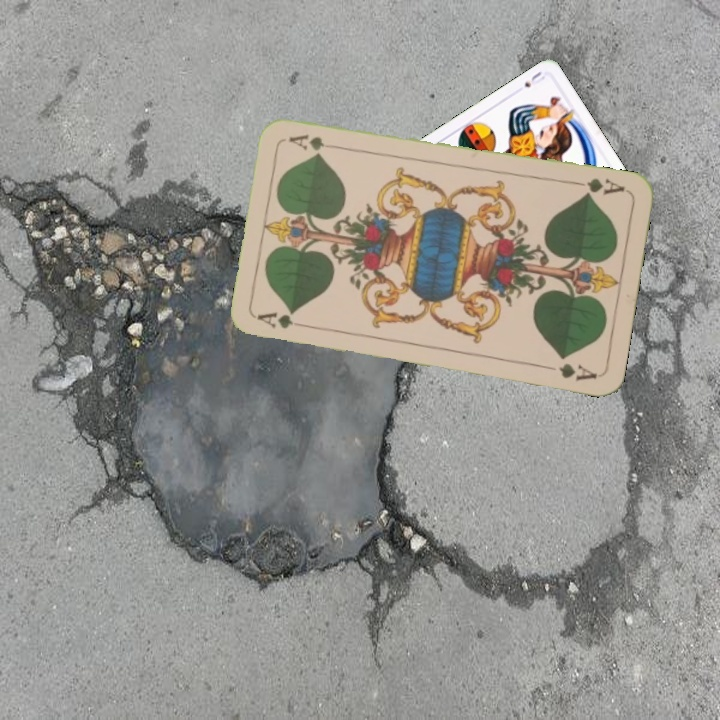GA: (570, 174, 627, 199), (254, 308, 313, 331)
SU: (520, 67, 548, 90)
